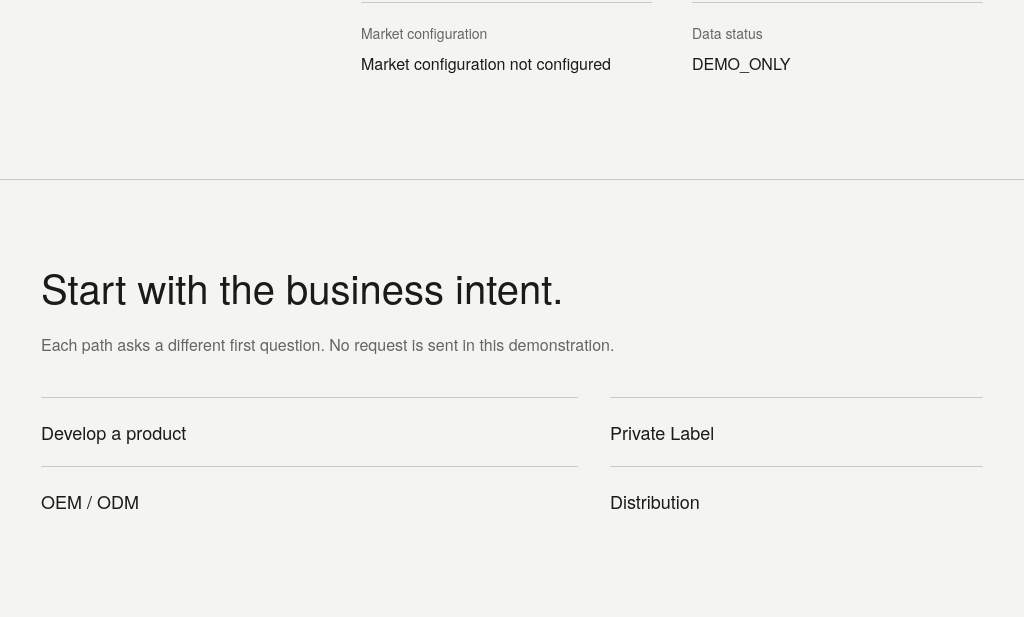
Test case: starts professional intake from a business intent
(page scrolled)
Click the button "Develop a product" at [114, 432], box 41,397 -> 578,466
(page scrolled)
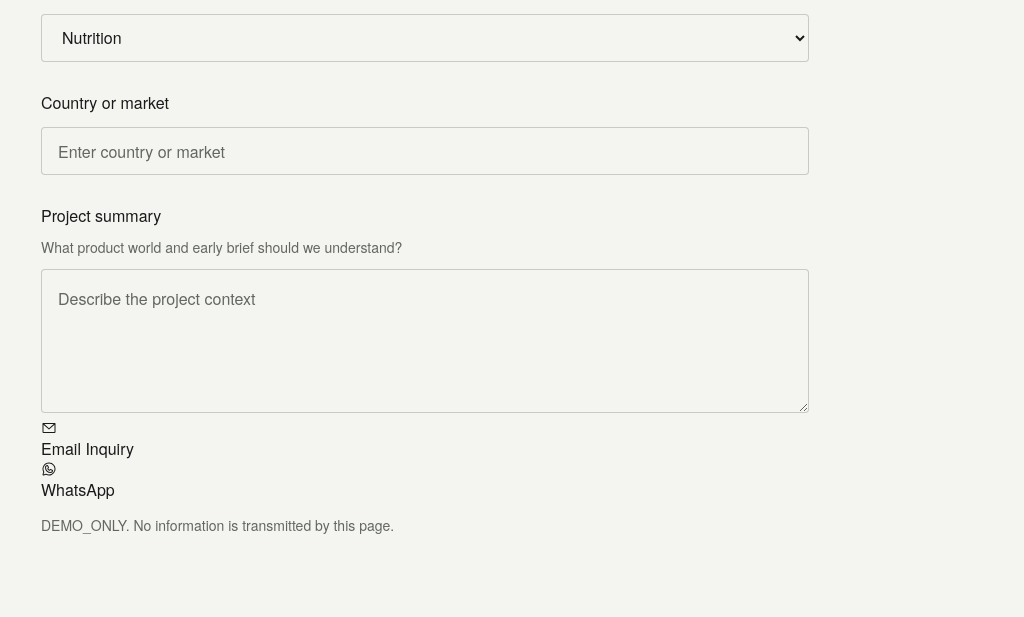
Now the text box labelled "Project summary" is shown, box 41,269 -> 809,413
Now the text "What product world and early brief should we understand?" is shown, box 41,237 -> 402,257
